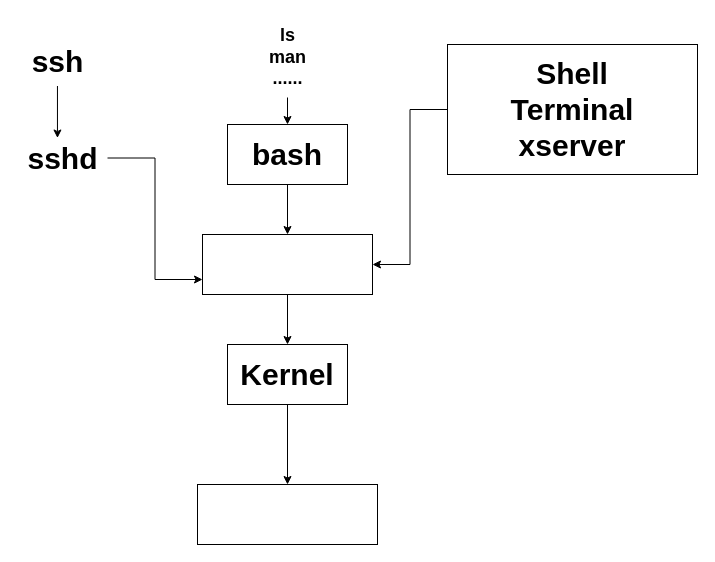
The diagram is 715 pixels wide and 562 high, and some of its shapes have lost their labels. The shapes that lost their labels are listed below. From the top down, each one's centre as x and y in pixels, then its label:
At (x=287, y=264): "Syscalls".
At (x=287, y=514): "Hardware".
